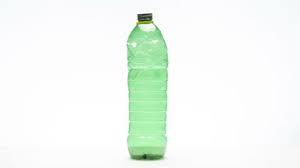Plastic bottle: (114, 5, 177, 164)
